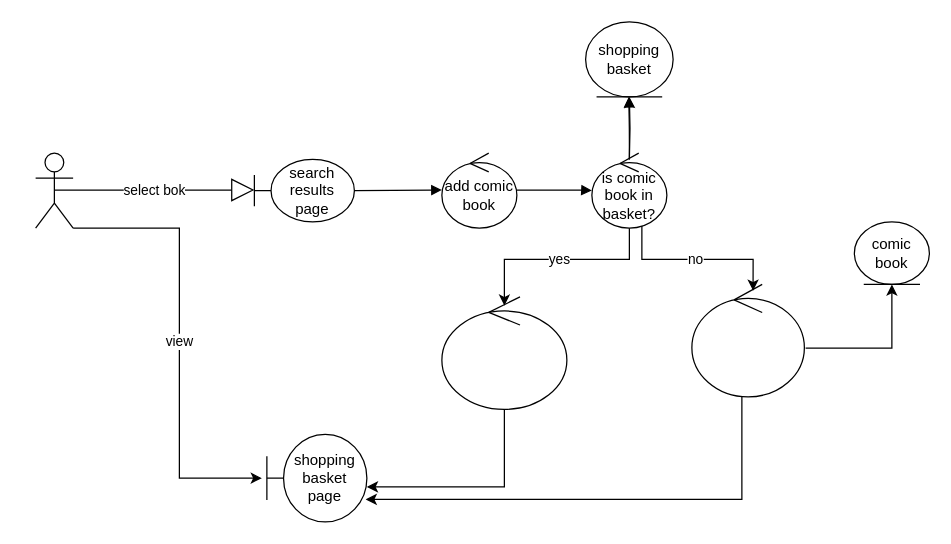
The diagram is 951 pixels wide and 544 high, and some of its shapes have lost their labels. The centre of each missing label's shape, as x and y in pixels:
"Customer" belongs at pixel 53 190.
"increase quantity of comic book by 1" belongs at pixel 504 352.
"store comic book in basket" belongs at pixel 747 340.
